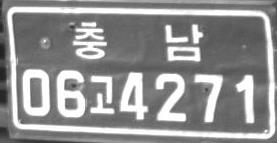0: (21, 67, 51, 116)
1: (231, 74, 262, 124)
2: (154, 72, 187, 123)
4: (118, 71, 148, 120)
6: (55, 68, 86, 118)
7: (193, 72, 224, 123)
고: (89, 74, 115, 115)
충남_D: (72, 21, 203, 62)
